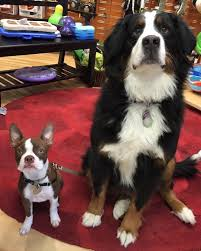dog: (99, 10, 201, 82), (6, 120, 56, 177)
